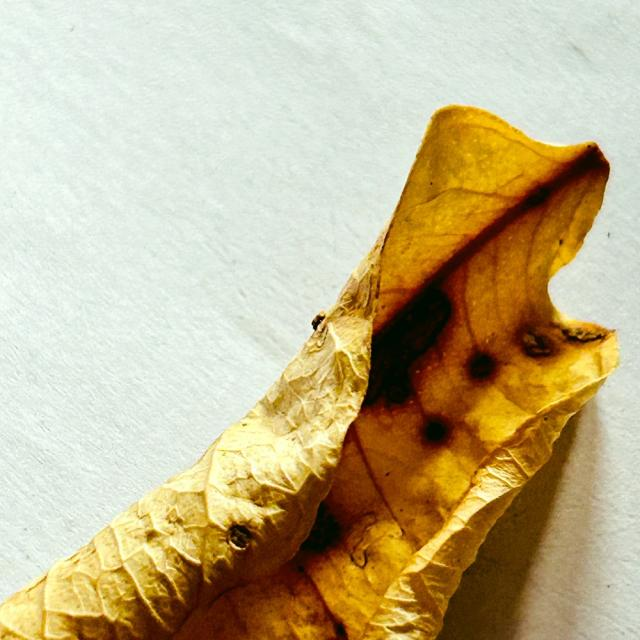DryLeaf_Lemon: (0, 106, 618, 639)
